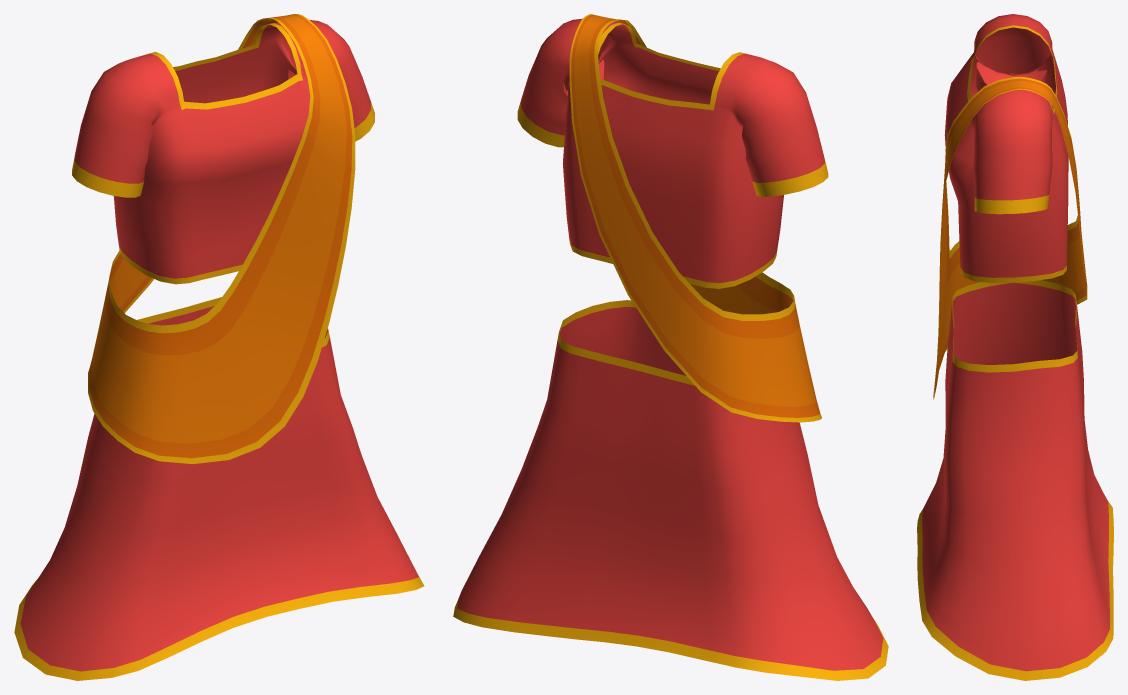
Rendered from sari.glb.
The picture shows the model from 3 angles, left to right: view 1: azimuth 30°, elevation 25°; view 2: azimuth 150°, elevation 25°; view 3: azimuth 270°, elevation 25°; orthographic projection. The views are drawn at different scales.
Parts seen in each view (by area): view 1: Circle.1799; view 2: Circle.1799; view 3: Circle.1799.
Part boxes in pixels (x1,y1,x2,y2): Circle.1799: [14, 14, 424, 680]; Circle.1799: [453, 14, 888, 680]; Circle.1799: [917, 14, 1113, 680].
Bounding box in the file's own units: 1.54 × 2.22 × 0.7302.
Materials: 1 (1 with a texture image).
